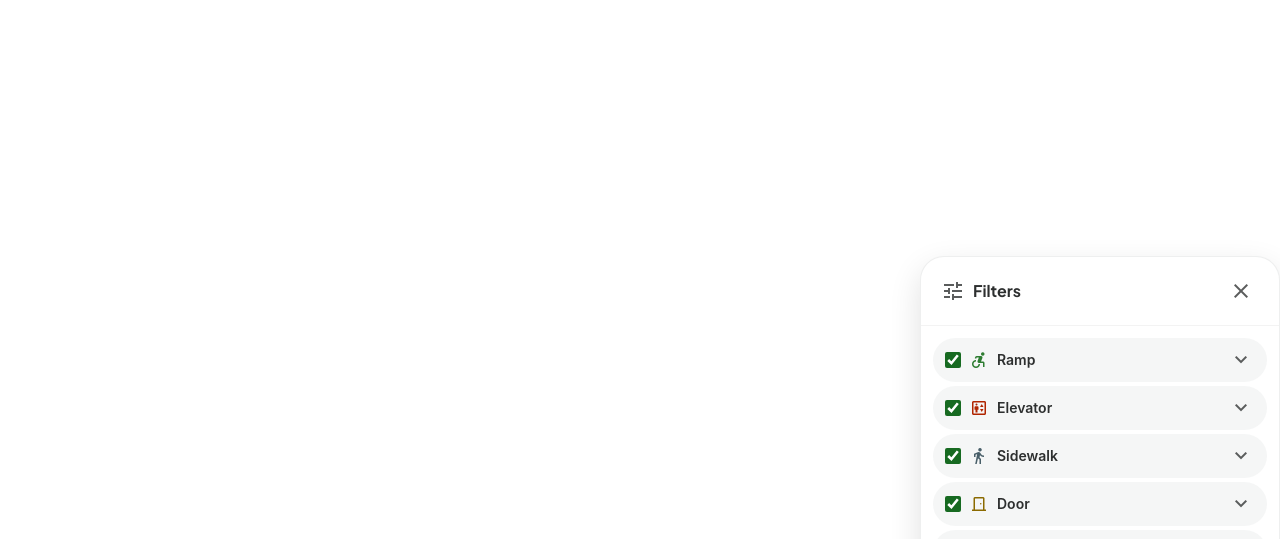
MapFilters › expanding a type reveals per-issue checkboxes
The width and height of the screenshot is (1280, 539).
(page scrolled)
Click the button named "Expand Ramp": (1241, 360) [1227,346,1255,374]
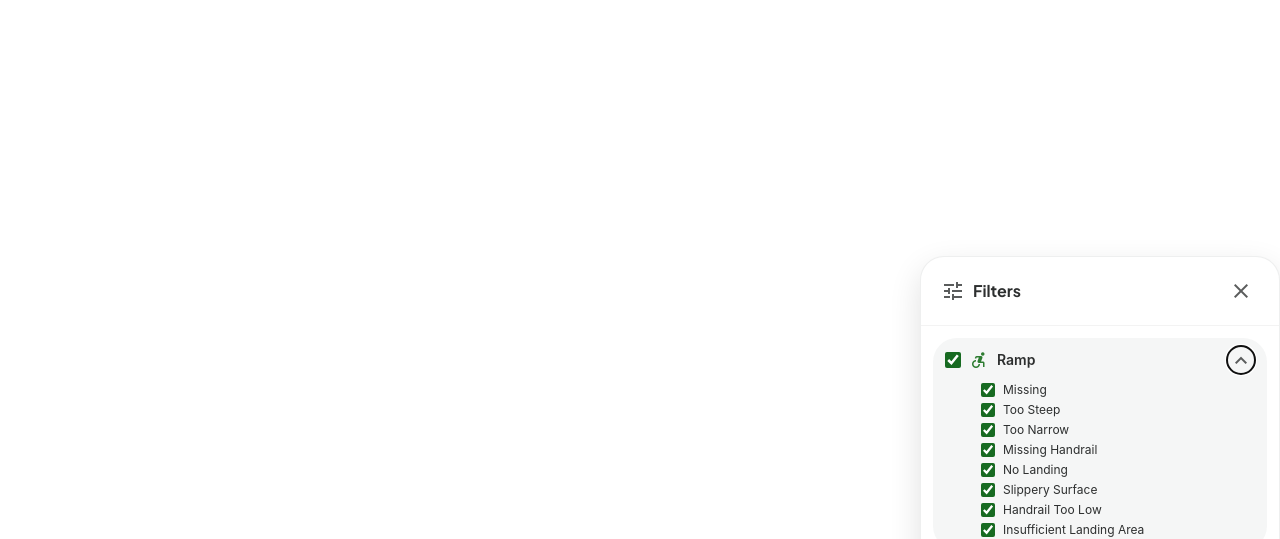
Expected: the checkbox named "Show Ramp Missing" is shown, [981,383,995,397]
